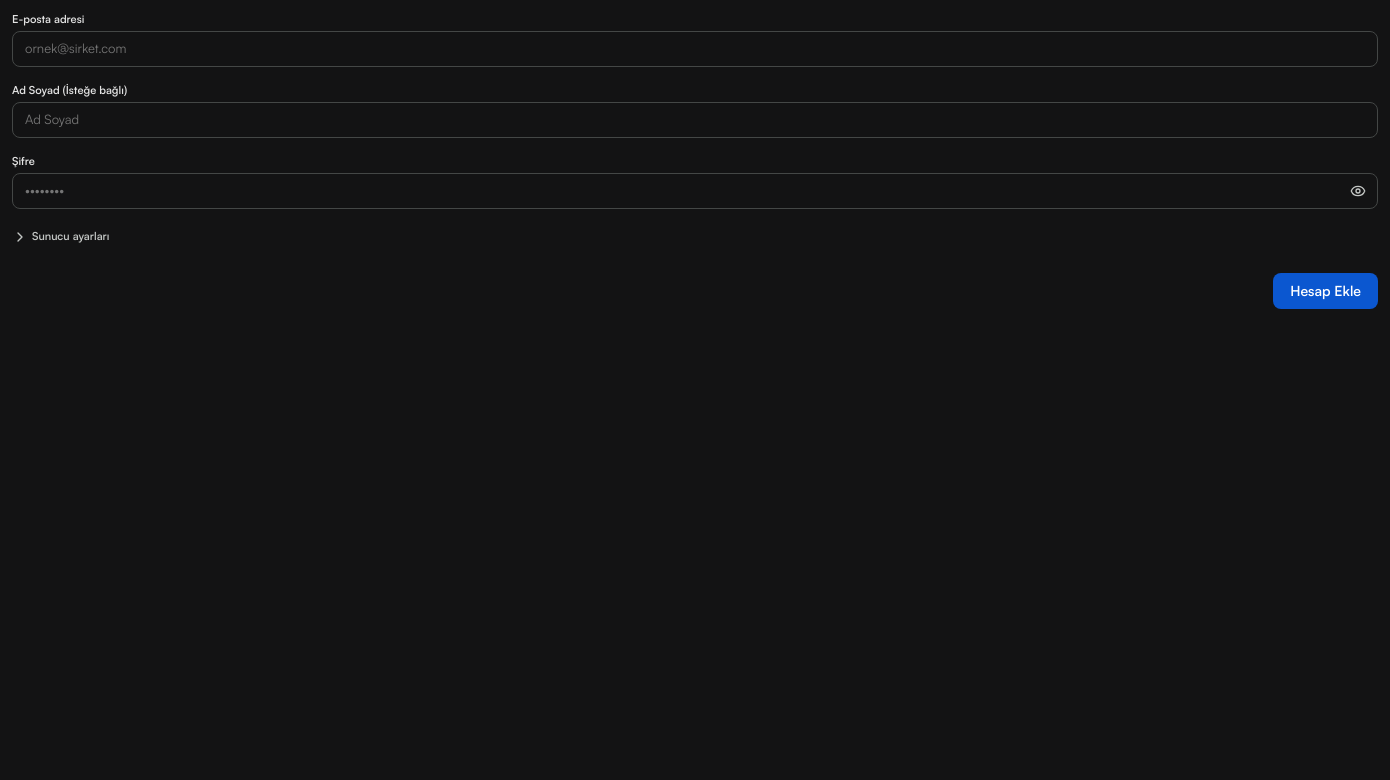
Shared Account Setup Form (Parity Fix) › 8. automatically expands server settings and shows alert on IMAP error
Type "user@test.com" into the field labelled "E-posta adresi".
click(695, 49); type("user@test.com")  # box [12,31,1378,67]
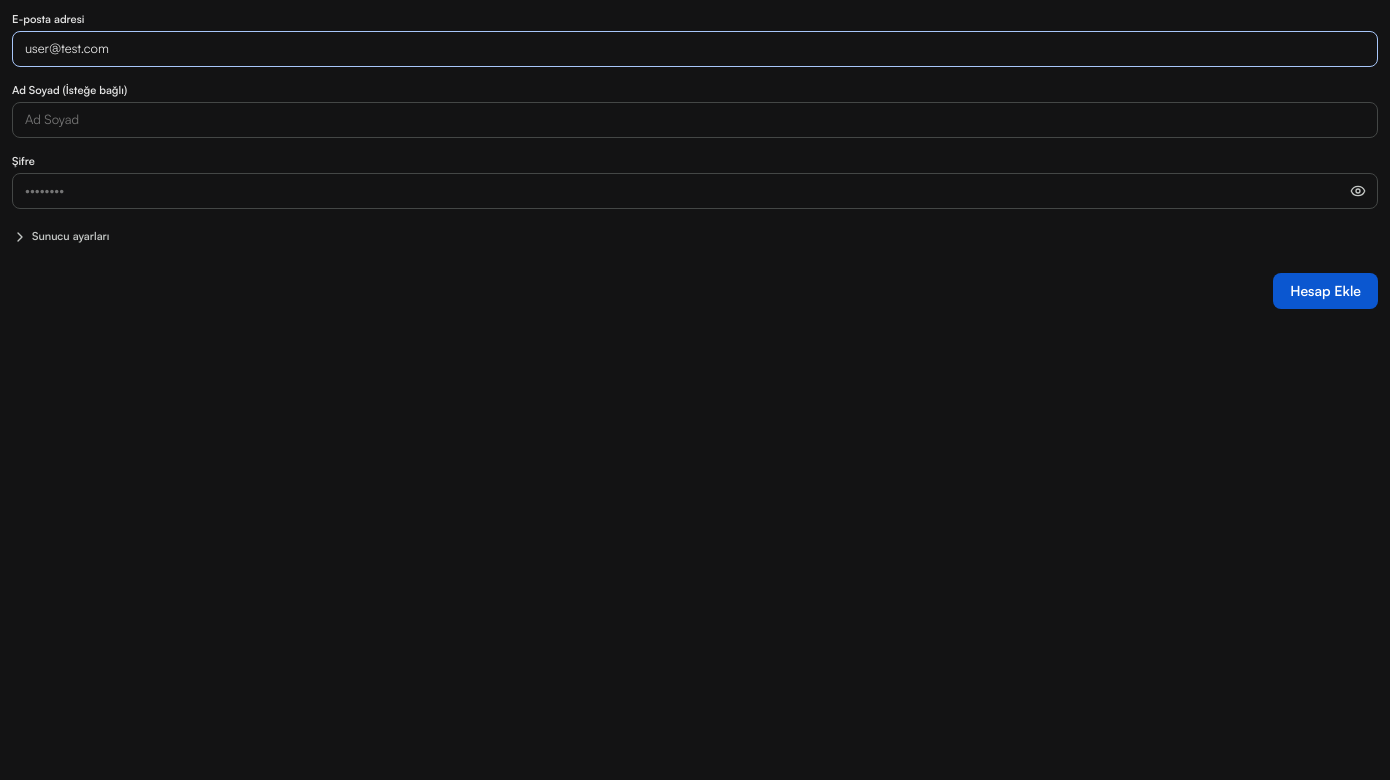
Type "secret123" into the password field labelled "Şifre".
click(695, 191); type("secret123")  # box [12,173,1378,209]
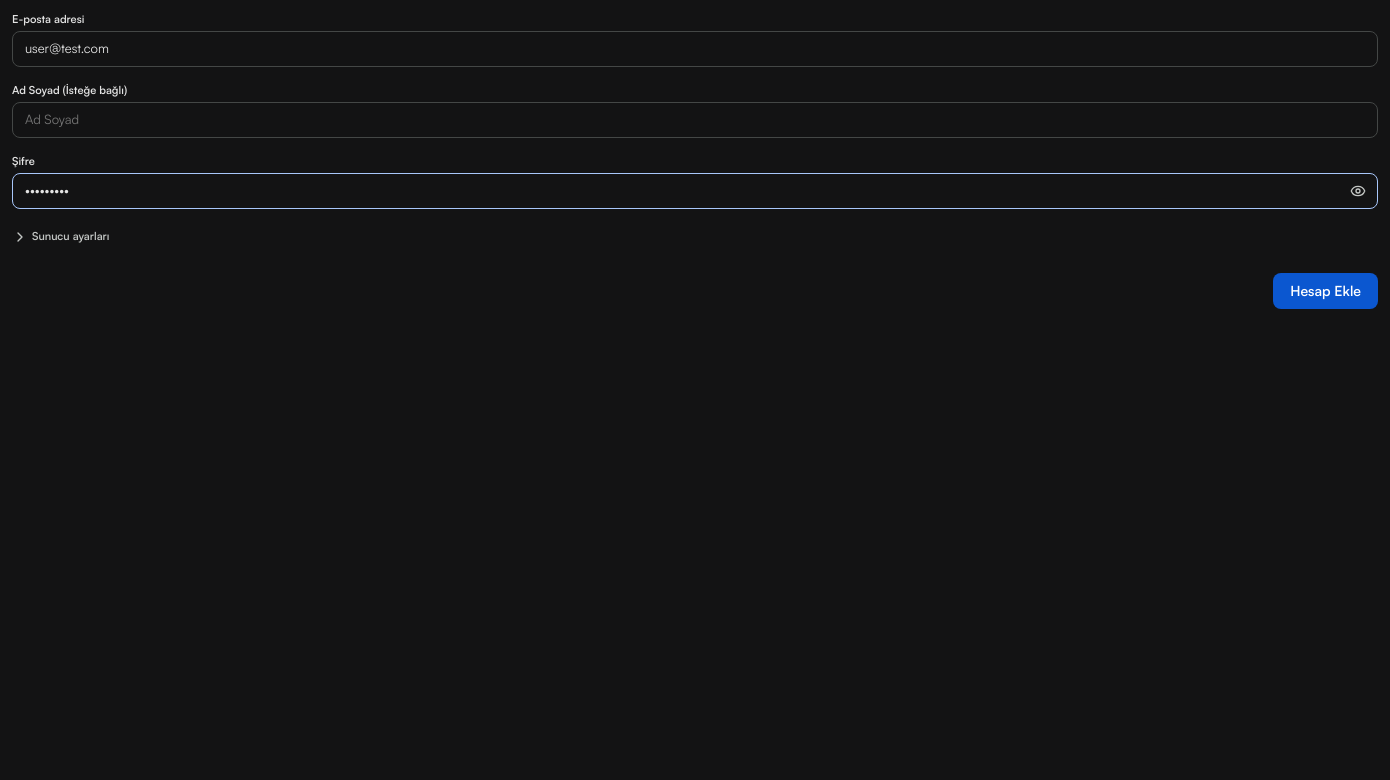
Click the button "Hesap Ekle".
click(1326, 291)  # box [1273,273,1378,309]
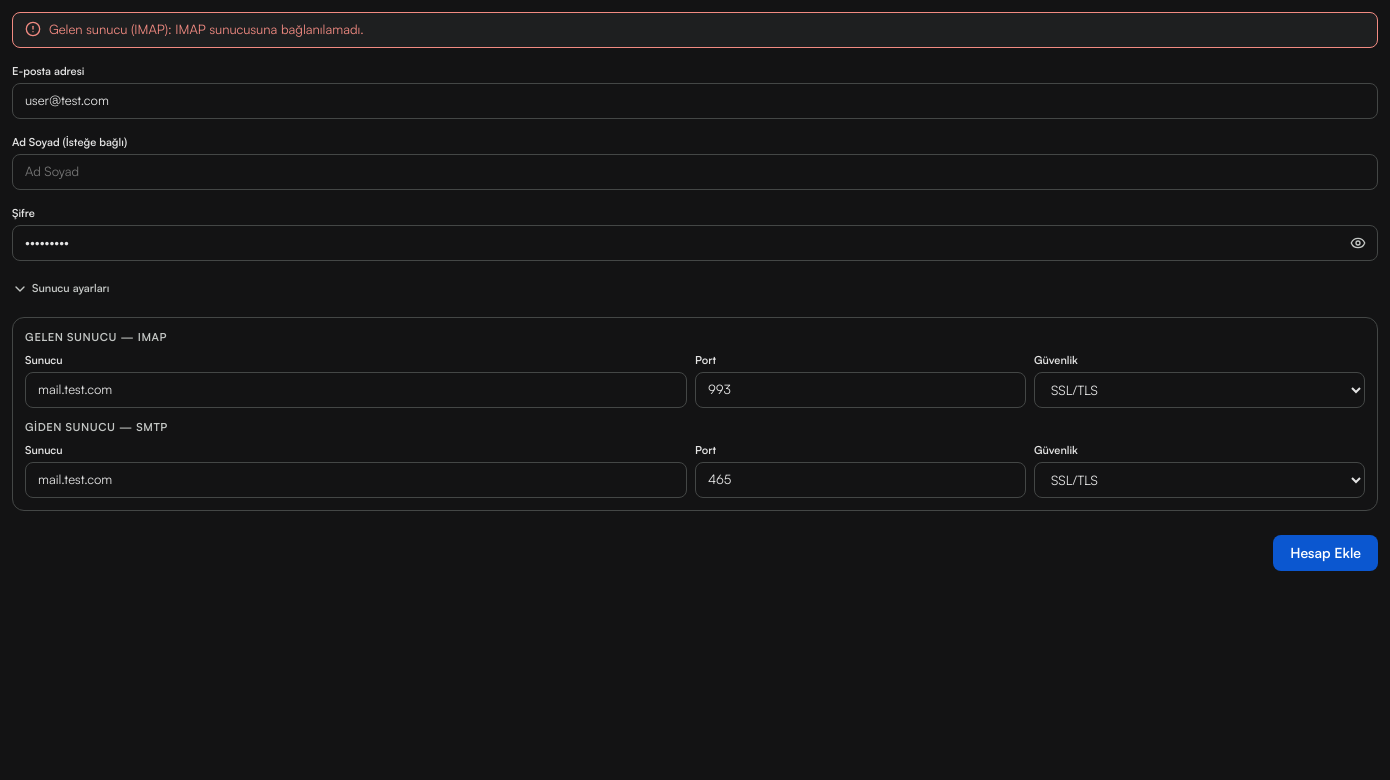
Now the message shows "Gelen sunucu (IMAP): IMAP sunucusuna bağlanılamadı", box [49,21,364,37]
Now the heading "Gelen sunucu — IMAP" is shown, box [25,330,167,344]
